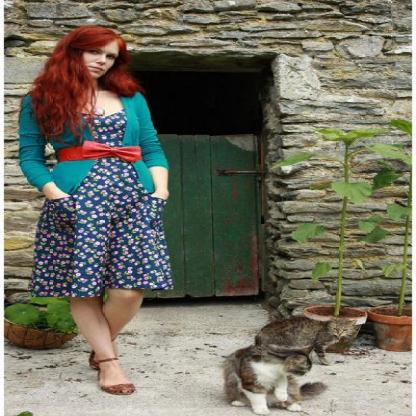dress: (13, 112, 170, 298)
jacket: (4, 92, 168, 191)
shoe: (87, 350, 136, 395)
